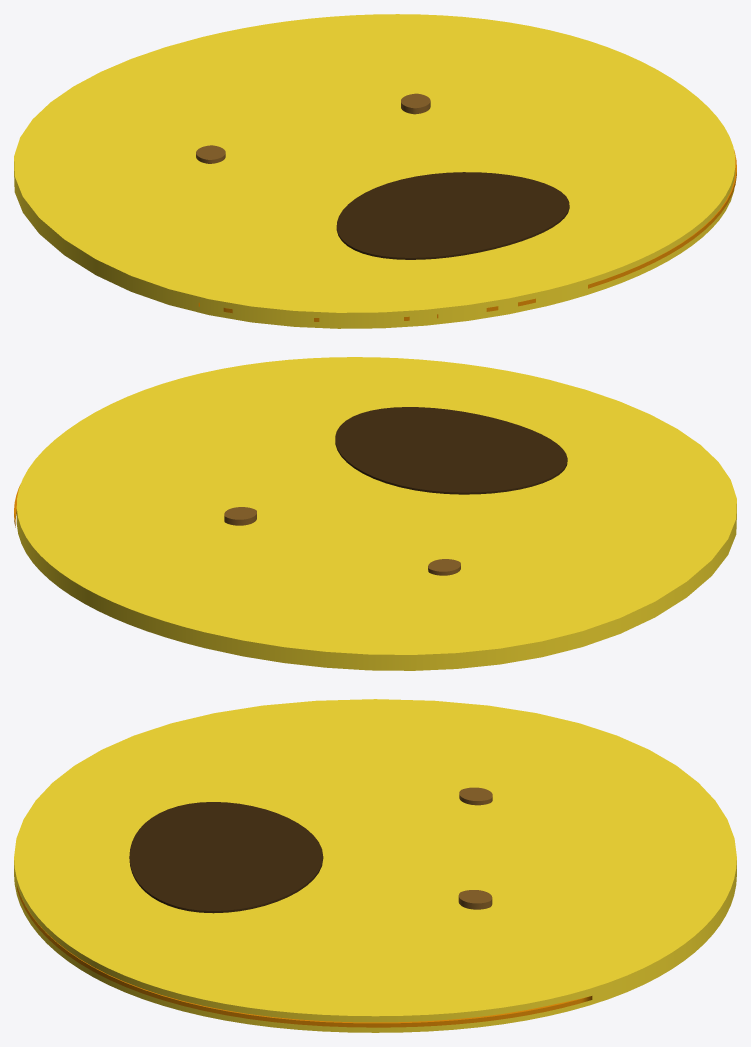
File: emoji_u1f62e.glb
3 views of the same model, one above another, from view 1: azimuth 30°, elevation 25°; view 2: azimuth 150°, elevation 25°; view 3: azimuth 270°, elevation 25° (orthographic). The views are drawn at different scales.
Visible parts, largest first — view 1: emoji_u1f62e; view 2: emoji_u1f62e; view 3: emoji_u1f62e.
Boxes of the visible parts, x1,y1,x2,y2 form: emoji_u1f62e: (14, 14, 736, 328); emoji_u1f62e: (14, 357, 736, 670); emoji_u1f62e: (14, 699, 736, 1032).
Bounding box in the file's own units: 0.0327 × 0.0014 × 0.0315.
